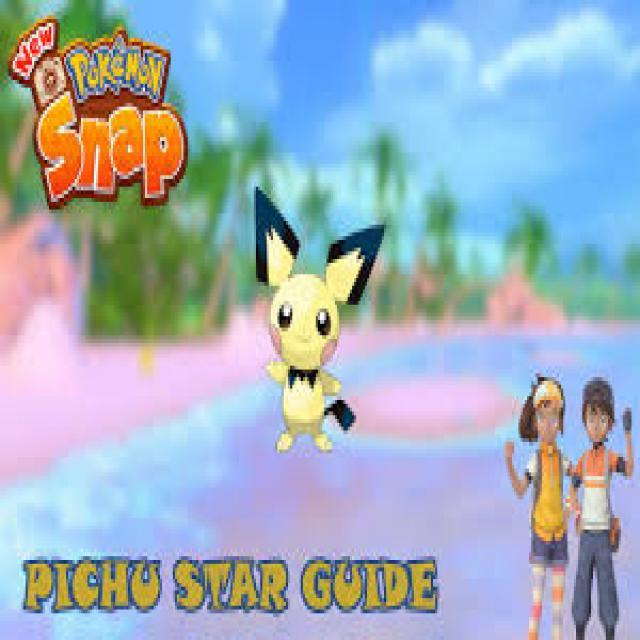pichu: (252, 190, 380, 450)
